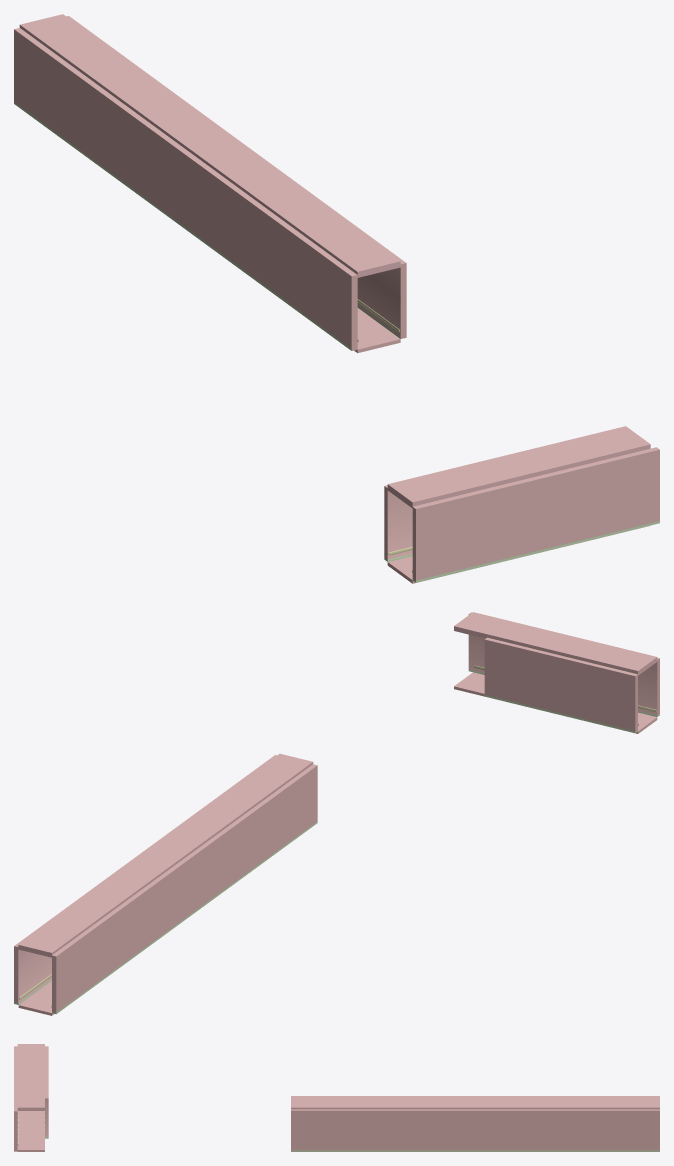
File: basic_corridor.fbx
3 renders of one model, top to bottom at view 1: azimuth 30°, elevation 25°; view 2: azimuth 150°, elevation 25°; view 3: azimuth 270°, elevation 25°, orthographic. The views are drawn at different scales.
Parts seen in each view (by area): view 1: Cylinder.049, Cylinder.012, Cylinder.005, Cylinder.008, ceiling.004, ceiling.019, ceiling.002, ceiling.001, ground.004; view 2: Cylinder.049, Cylinder.008, Cylinder.012, Cylinder.005, ceiling.004, ceiling.002, ceiling.019, ceiling.001, ground.022, ground.002; view 3: Cylinder.012, Cylinder.005, Cylinder.008, ceiling.004, ceiling.019, ceiling.001, ceiling.002, ground.022, Cylinder.049.
Boxes of the visible parts, <box> form: Cylinder.049: <box>384,447,659,582</box>; Cylinder.012: <box>239,180,406,350</box>; Cylinder.005: <box>126,98,293,268</box>; Cylinder.008: <box>14,16,180,185</box>; ceiling.004: <box>387,426,650,508</box>; ceiling.019: <box>245,179,400,277</box>; ceiling.002: <box>19,14,175,109</box>; ceiling.001: <box>132,96,287,192</box>; ground.004: <box>354,308,400,353</box>; Cylinder.049: <box>468,612,659,732</box>; Cylinder.008: <box>14,882,143,1014</box>; Cylinder.012: <box>188,755,317,886</box>; Cylinder.005: <box>101,818,230,949</box>; ceiling.004: <box>454,612,657,675</box>; ceiling.002: <box>18,881,138,957</box>; ceiling.019: <box>193,753,313,827</box>; ceiling.001: <box>106,817,225,891</box>; ground.022: <box>454,672,657,733</box>; ground.002: <box>18,981,53,1015</box>; Cylinder.012: <box>291,1109,413,1151</box>; Cylinder.005: <box>414,1109,536,1151</box>; Cylinder.008: <box>537,1109,659,1151</box>; ceiling.004: <box>17,1044,44,1110</box>; ceiling.019: <box>291,1096,413,1109</box>; ceiling.001: <box>414,1096,536,1109</box>; ceiling.002: <box>537,1096,659,1109</box>; ground.022: <box>17,1111,44,1151</box>; Cylinder.049: <box>14,1046,48,1151</box>.
Bounding box in the file's own units: 1469 × 467 × 6146.
